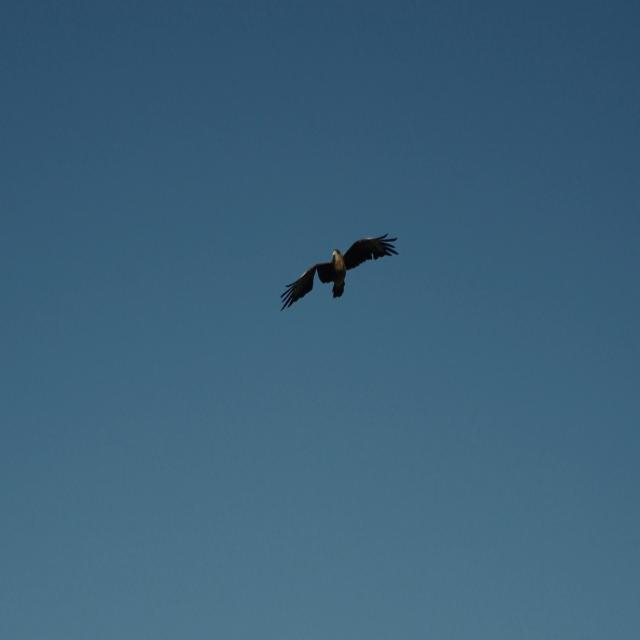bird: (267, 216, 403, 326)
